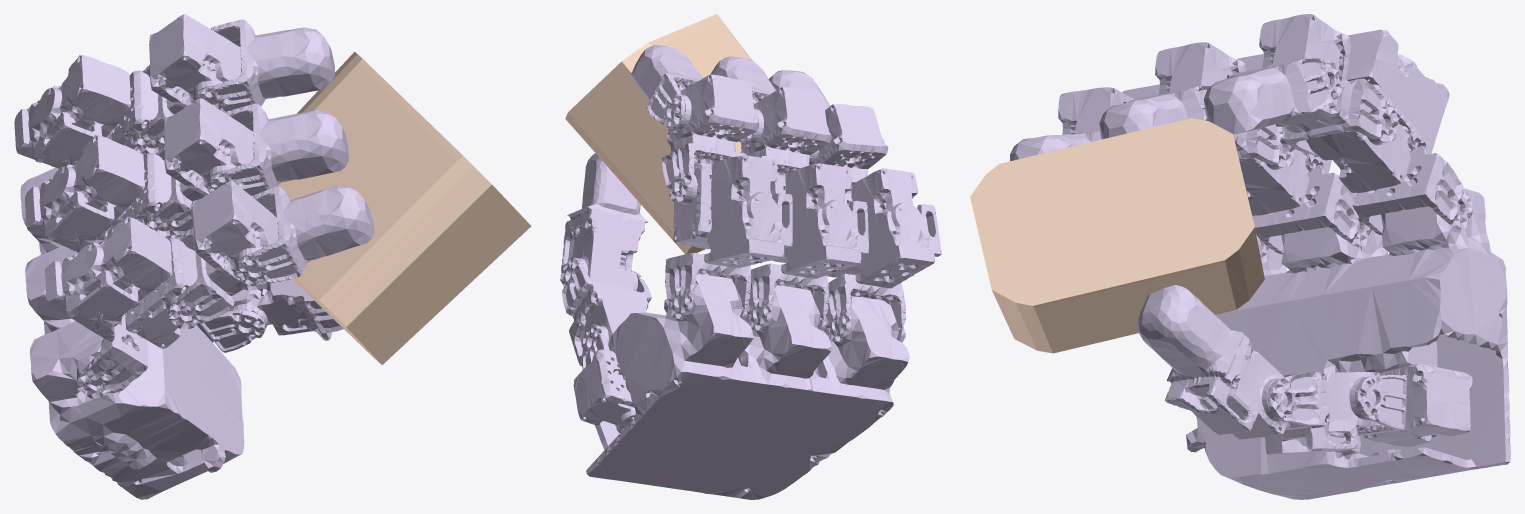
The picture shows the model from 3 angles, left to right: view 1: azimuth 30°, elevation 25°; view 2: azimuth 150°, elevation 25°; view 3: azimuth 270°, elevation 25°; orthographic projection. The views are drawn at different scales.
Visible parts, largest first — view 1: LEAP_hand, world; view 2: LEAP_hand, world; view 3: LEAP_hand, world.
Boxes of the visible parts, x1,y1,x2,y2 form: LEAP_hand: [14, 14, 374, 499]; world: [278, 52, 531, 365]; LEAP_hand: [560, 45, 941, 499]; world: [565, 14, 752, 254]; LEAP_hand: [1010, 14, 1510, 499]; world: [970, 118, 1264, 353].
Size of the model in its own units: 0.1904 by 0.2099 by 0.2021.
